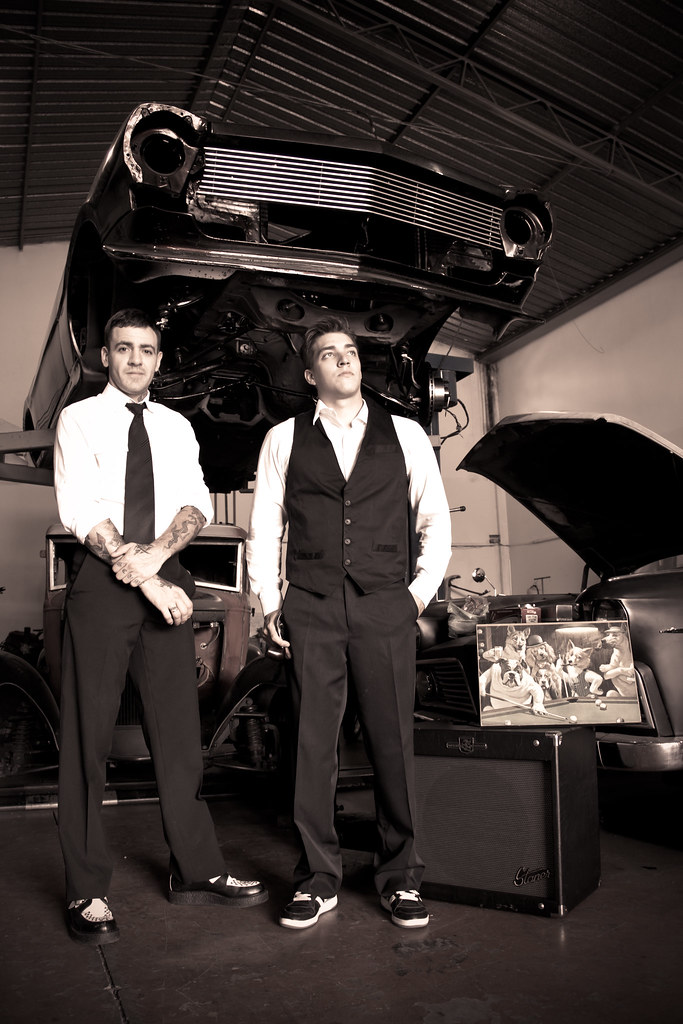person: (241, 283, 501, 939), (34, 295, 258, 954)
